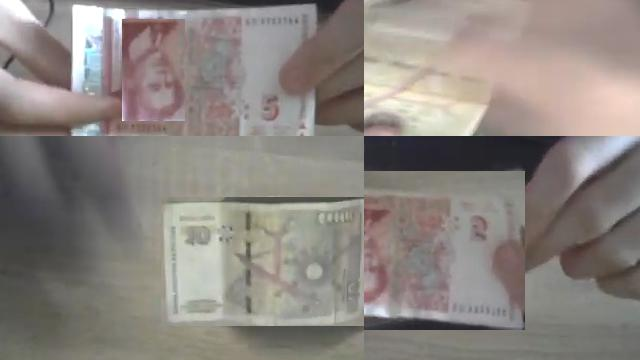10leva: (364, 0, 640, 136), (161, 197, 364, 326)
5leva: (364, 196, 525, 330), (122, 19, 185, 121)
